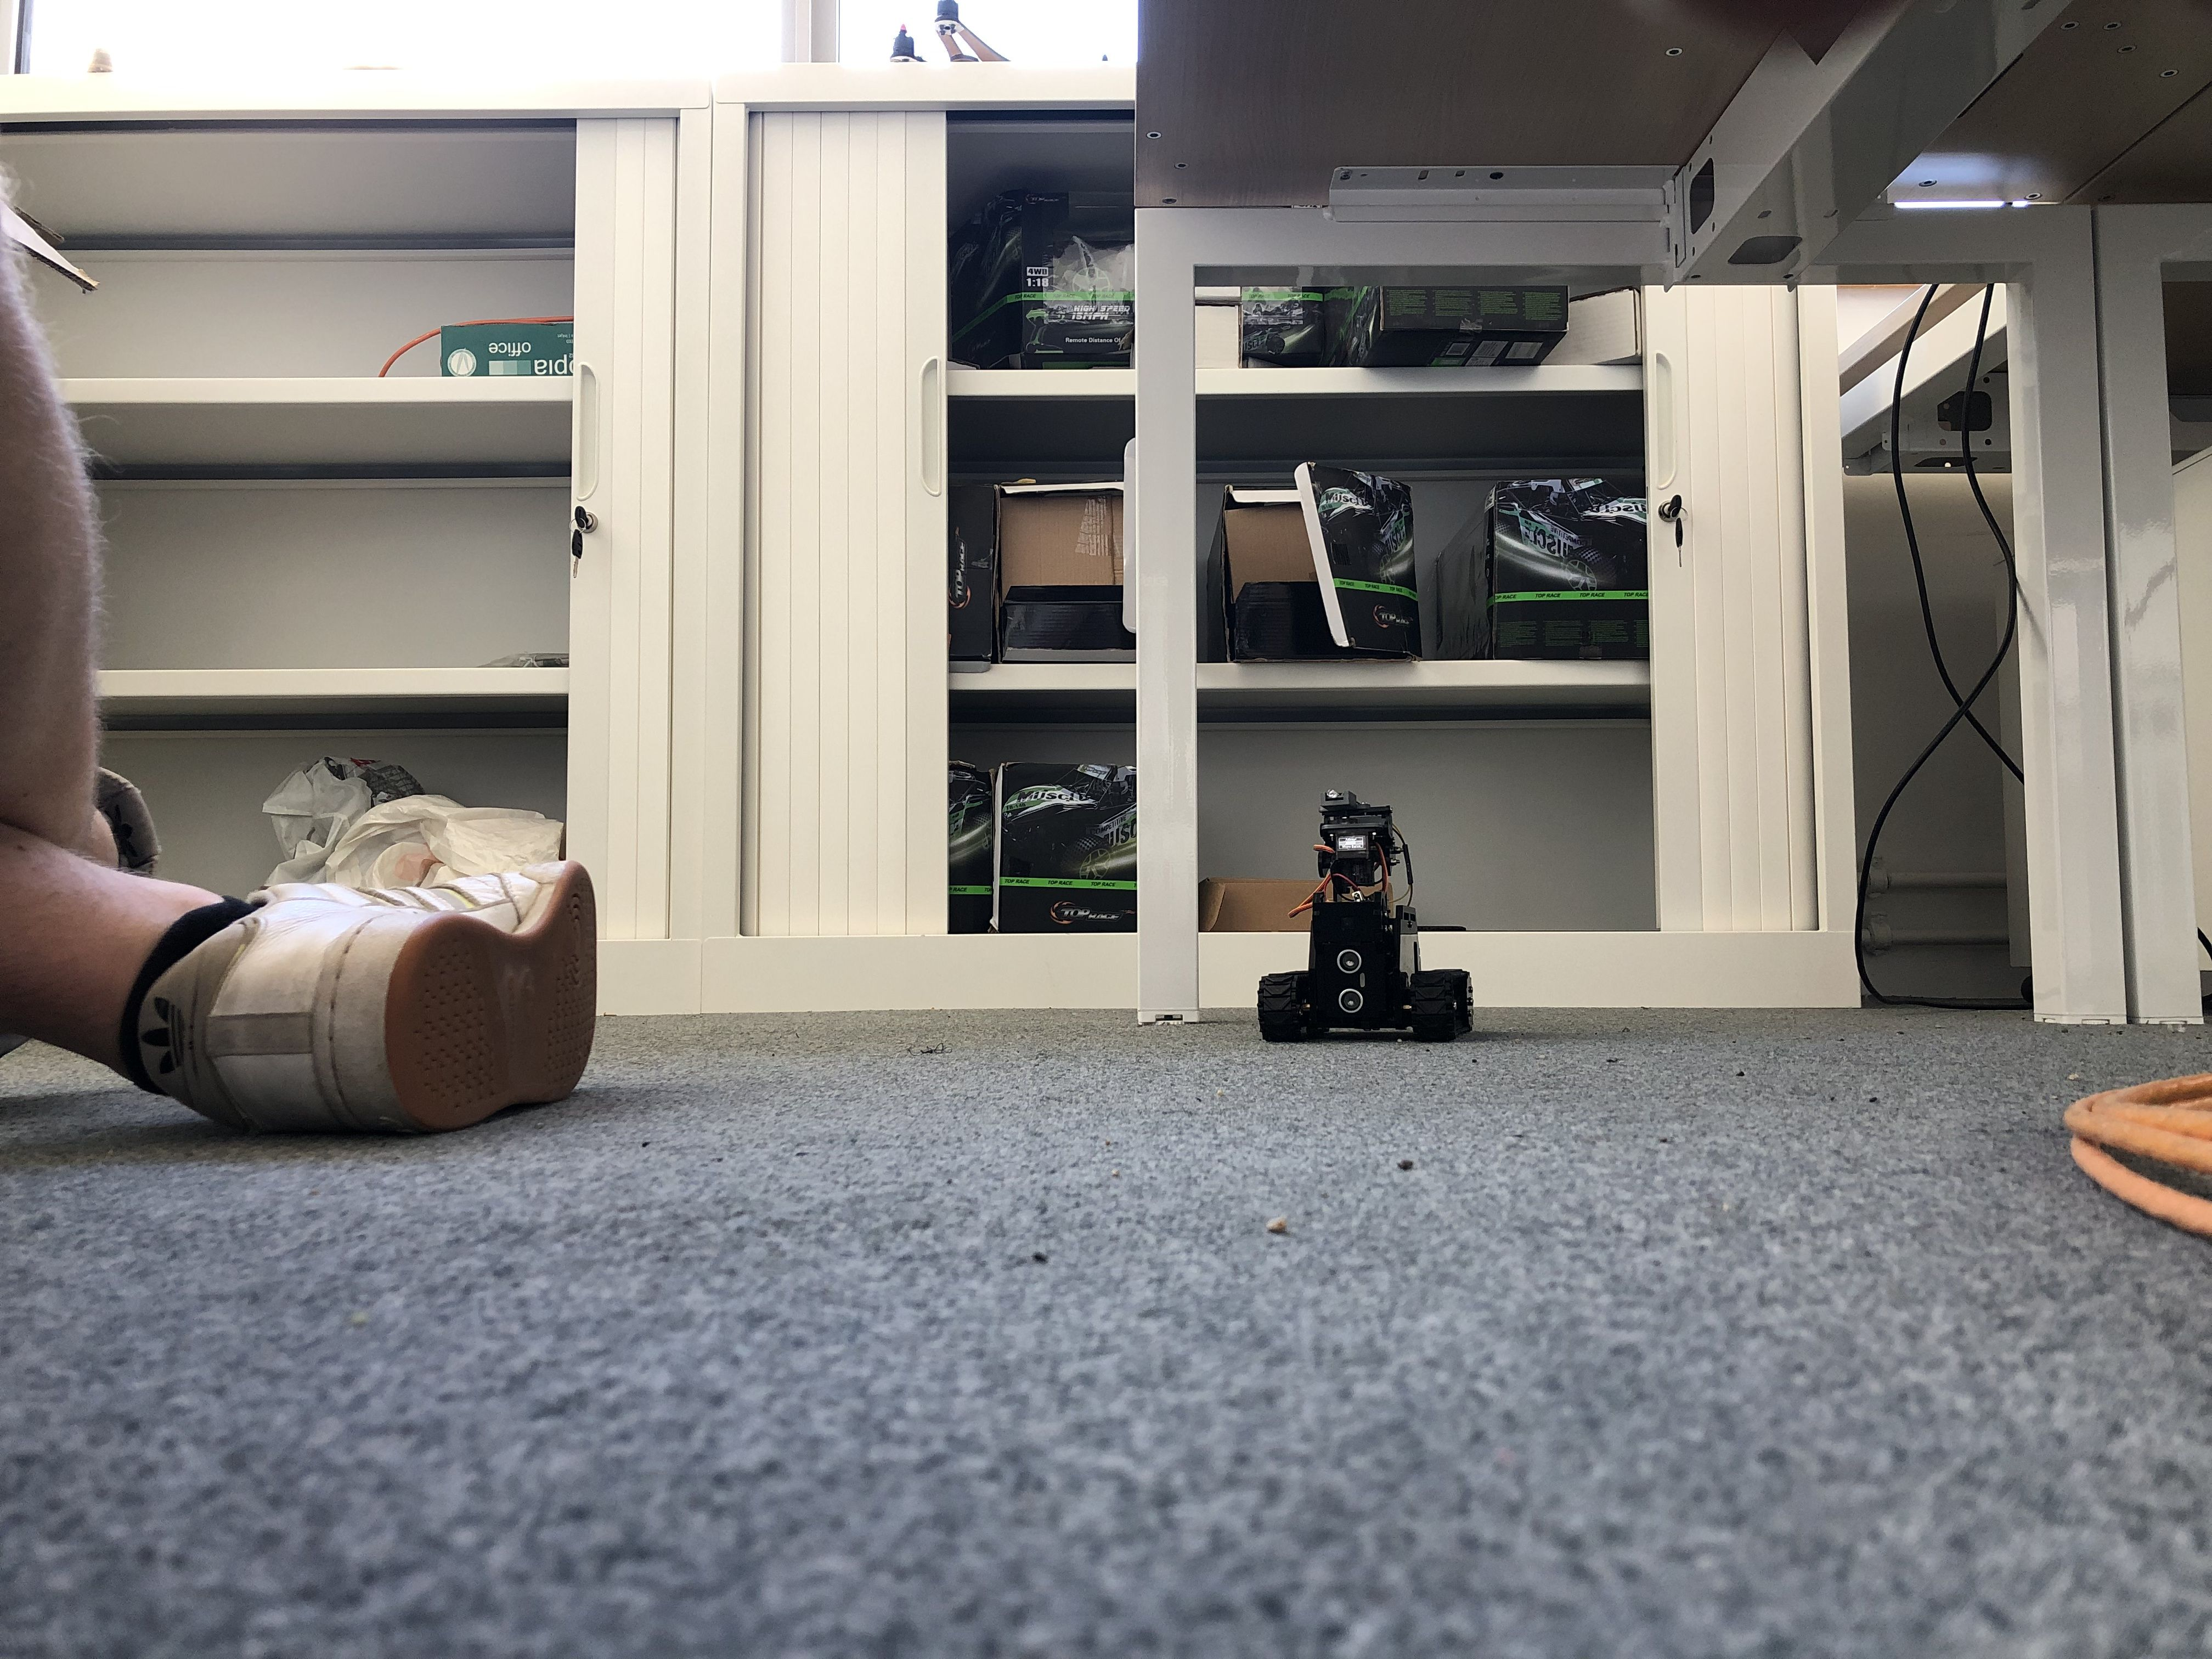rasptank: (1252, 782, 1480, 1049)
